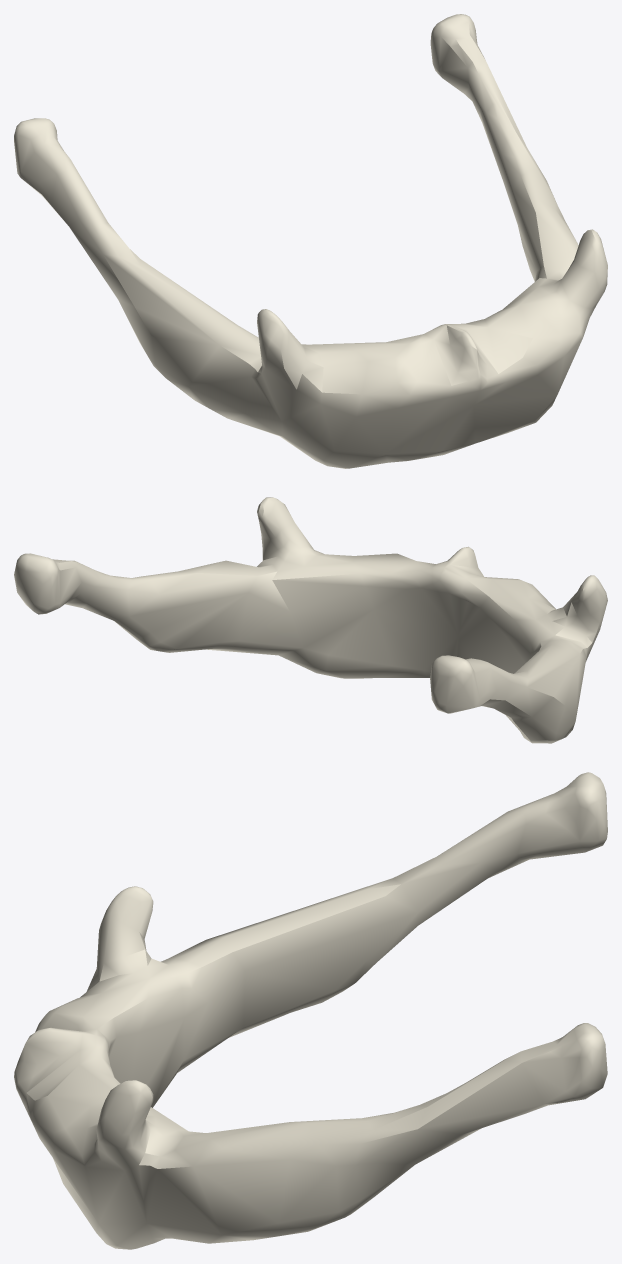
Rendered from fma52749_fj3201.glb.
3 views of the same model, one above another, from view 1: azimuth 30°, elevation 25°; view 2: azimuth 150°, elevation 25°; view 3: azimuth 270°, elevation 25° (orthographic). The views are drawn at different scales.
Visible parts, largest first — view 1: FMA52749_FJ3201; view 2: FMA52749_FJ3201; view 3: FMA52749_FJ3201.
Part boxes in pixels (x1,y1,x2,y2): FMA52749_FJ3201: (14,14,607,468); FMA52749_FJ3201: (14,497,607,743); FMA52749_FJ3201: (14,772,607,1249).
Size of the model in its own units: 0.0378 by 0.0185 by 0.0346.
